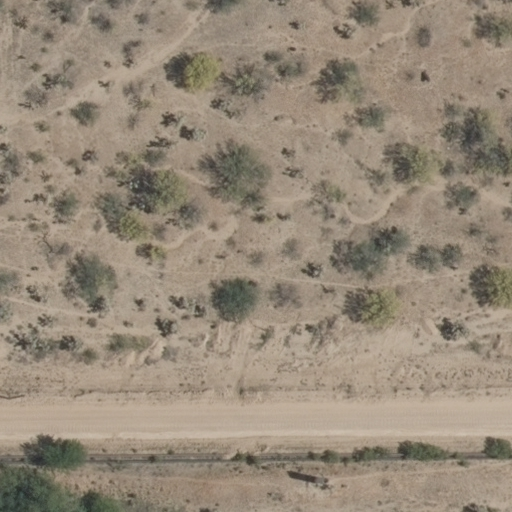DT: (1, 388, 28, 404)
